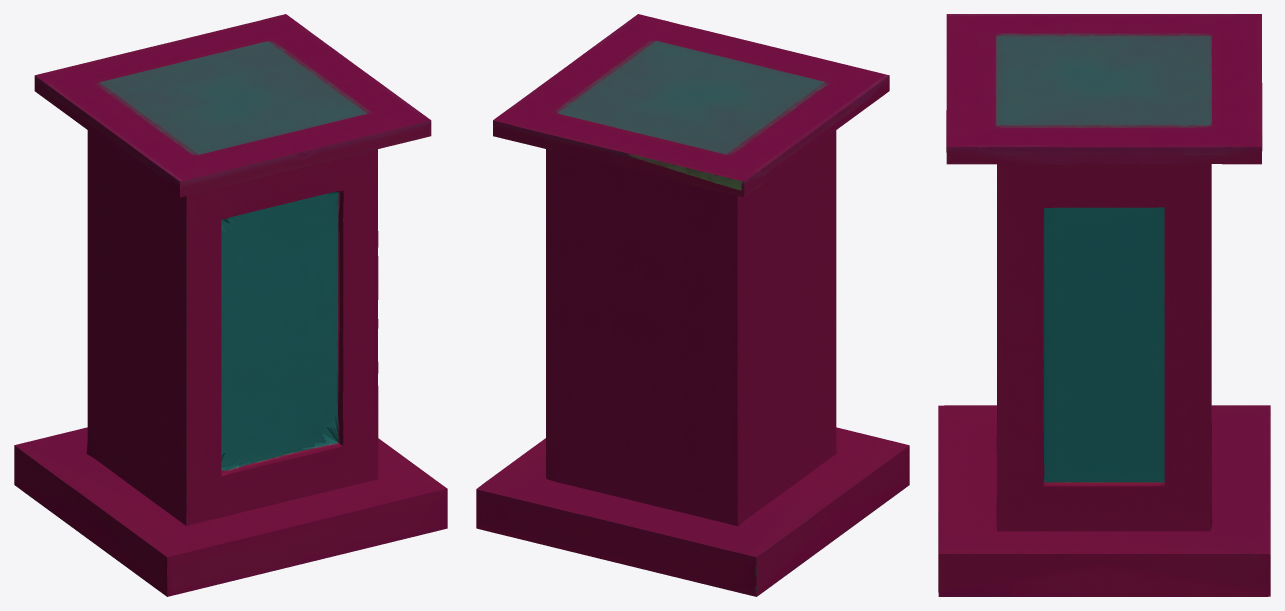
File: valet-CJg5oReV.glb
The picture shows the model from 3 angles, left to right: view 1: azimuth 30°, elevation 25°; view 2: azimuth 150°, elevation 25°; view 3: azimuth 270°, elevation 25°; orthographic projection. The views are drawn at different scales.
Visible parts, largest first — view 1: Mesh_0; view 2: Mesh_0; view 3: Mesh_0.
Part boxes in pixels (<box>): Mesh_0: <box>14,14,447,596</box>; Mesh_0: <box>476,14,909,596</box>; Mesh_0: <box>938,14,1270,596</box>.
Size of the model in its own units: 1.37 by 1.9 by 1.29.
Materials: 1 (1 with a texture image).
